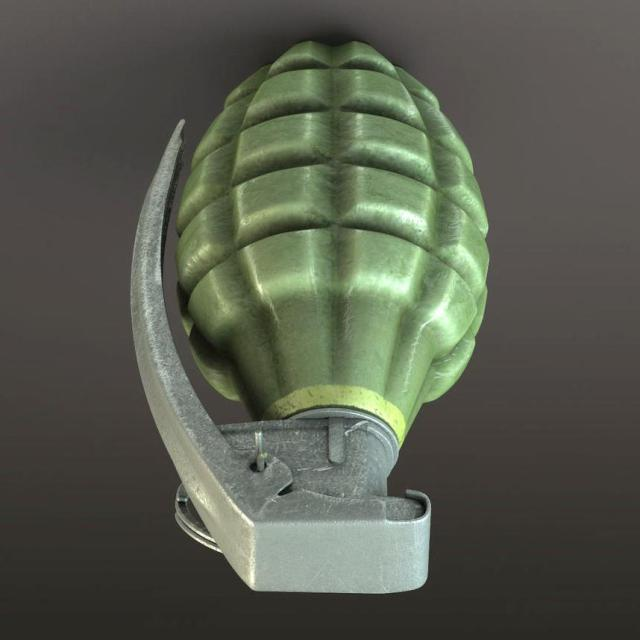grenade: (131, 40, 489, 596)
